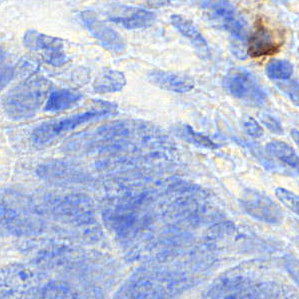Lymphocyte: (247, 22, 284, 58)
